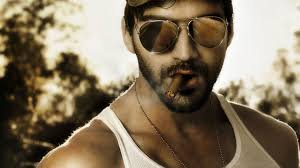noMask: (117, 1, 240, 112)
